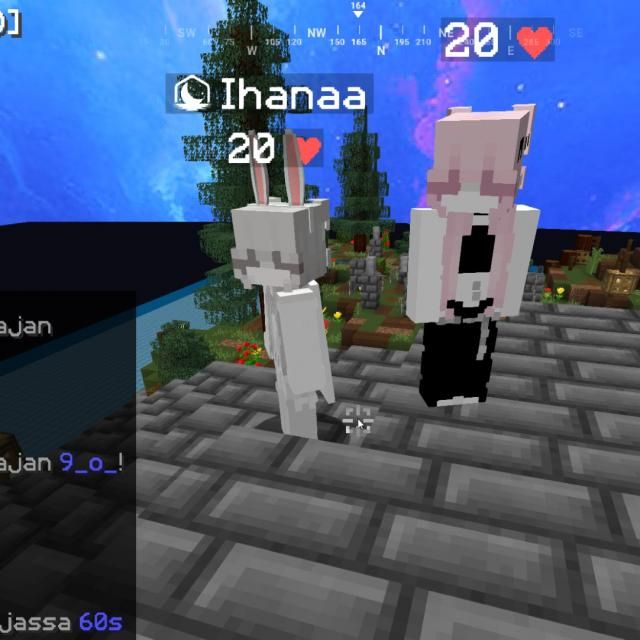Player: (407, 102, 538, 405), (230, 197, 336, 438)
